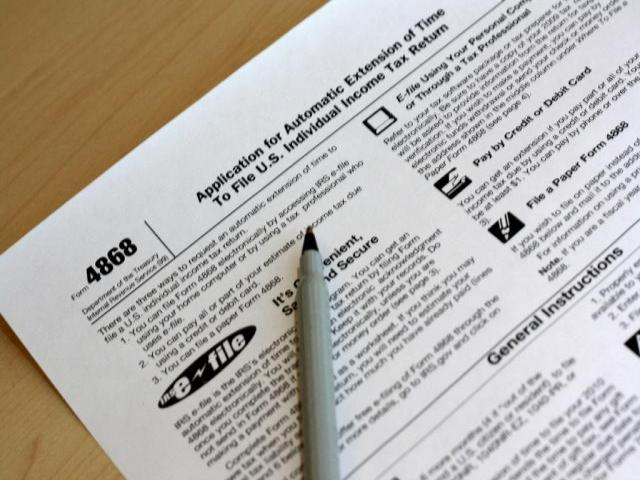PEN: (275, 218, 380, 480)
